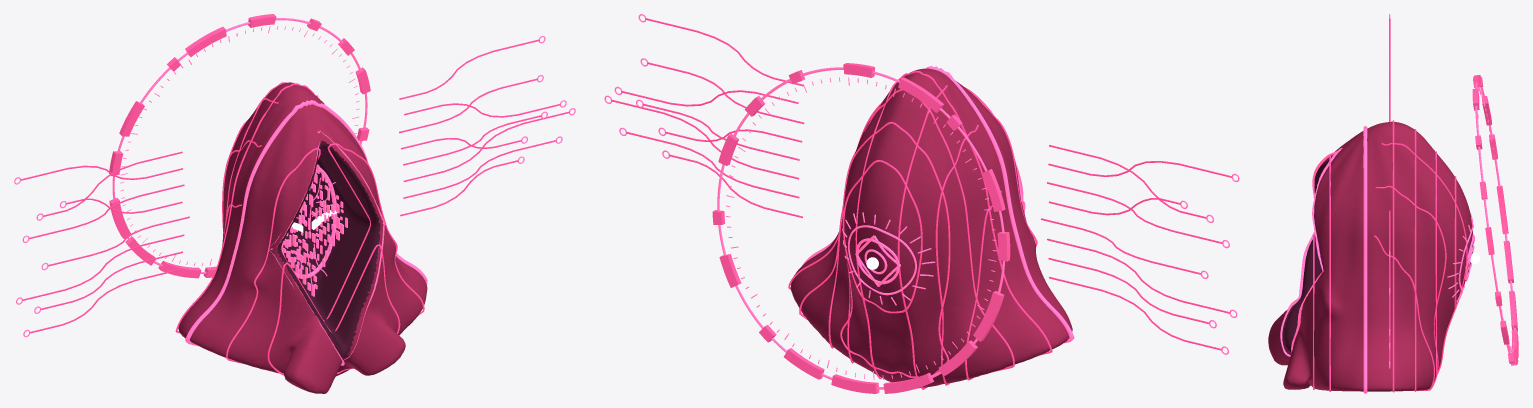
The model's file is hooded_figure_3d_crimson.glb.
The picture shows the model from 3 angles, left to right: view 1: azimuth 30°, elevation 25°; view 2: azimuth 150°, elevation 25°; view 3: azimuth 270°, elevation 25°; orthographic projection. The views are drawn at different scales.
Parts seen in each view (by area): view 1: hood_body, hood_inner, circuit_traces, halo_segments, contour_ribs, code_face, outline_glow, halo_ring, hood_lip_glow, circuit_nodes; view 2: hood_body, circuit_traces, halo_segments, contour_ribs, back_lines, halo_ring, back_emblem, outline_glow, circuit_nodes; view 3: hood_body, contour_ribs, halo_segments, outline_glow, back_lines, hood_inner, hood_lip_glow, halo_ring, back_emblem, circuit_traces.
Boxes of the visible parts, x1,y1,x2,y2 form: hood_body: (178,82,427,393); hood_inner: (277,140,380,358); circuit_traces: (21,39,569,333); halo_segments: (109,14,370,278); contour_ribs: (175,82,424,375); code_face: (281,164,347,296); outline_glow: (185,100,427,346); halo_ring: (112,18,367,273); hood_lip_glow: (269,130,384,365); circuit_nodes: (14,36,575,337); hood_body: (790,68,1072,388); circuit_traces: (611,18,1231,350); halo_segments: (712,63,1010,393); contour_ribs: (788,71,1052,388); back_lines: (828,82,1001,389); halo_ring: (717,67,1005,389); back_emblem: (842,212,935,305); outline_glow: (802,66,1074,343); circuit_nodes: (604,14,1239,354); hood_body: (1268,121,1473,391); contour_ribs: (1313,120,1456,392); halo_segments: (1472,75,1518,365); outline_glow: (1363,126,1367,393); back_lines: (1374,143,1467,390); hood_inner: (1284,160,1329,352); hood_lip_glow: (1280,148,1342,356); halo_ring: (1475,82,1515,357); back_emblem: (1447,213,1474,302); circuit_traces: (1389,19,1390,363).
Size of the model in its own units: 5.79 by 3.05 by 2.29.
